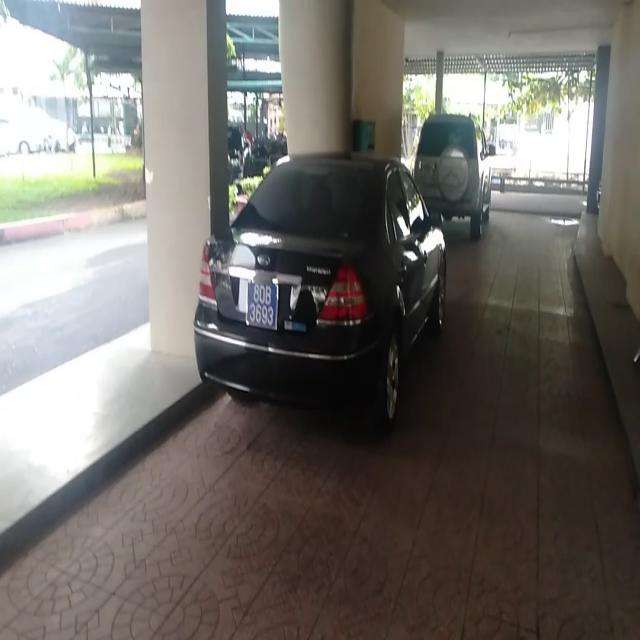bien_xanh: (246, 271, 278, 329)
